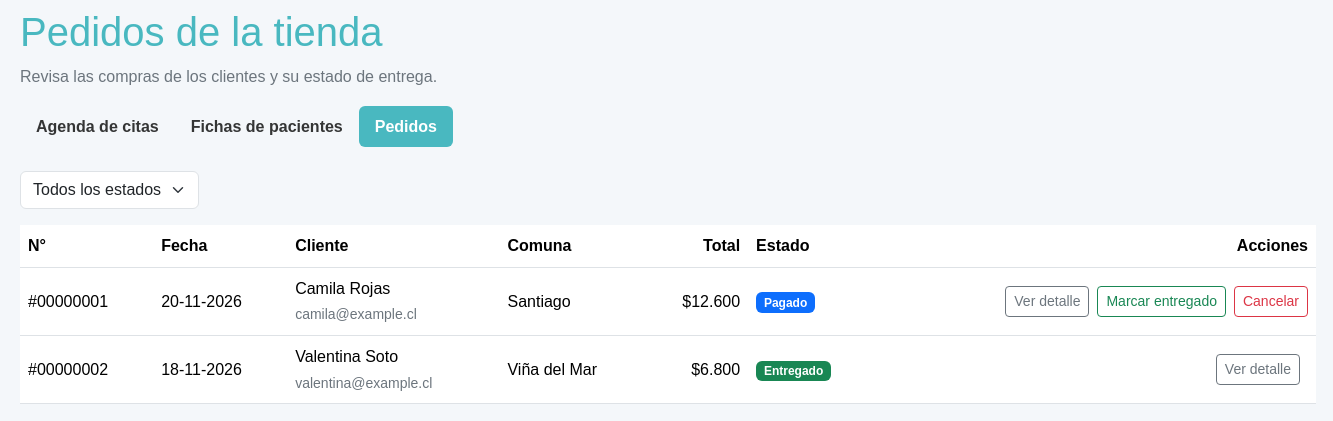
Scenario: GestionPedidos › avisa cuando ningún pedido coincide
Step 1. Select "Cancelado" in the dropdown named "Filtrar por estado" → coordinates (110, 190), box [20,171,199,209]
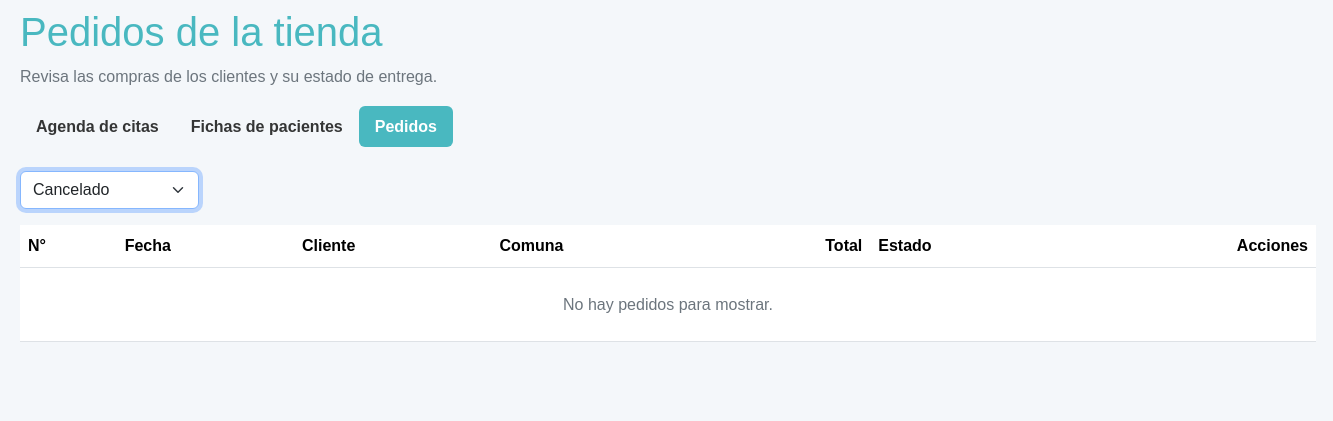
Check: the text "No hay pedidos para mostrar." is shown, box [20,267,1316,342]
